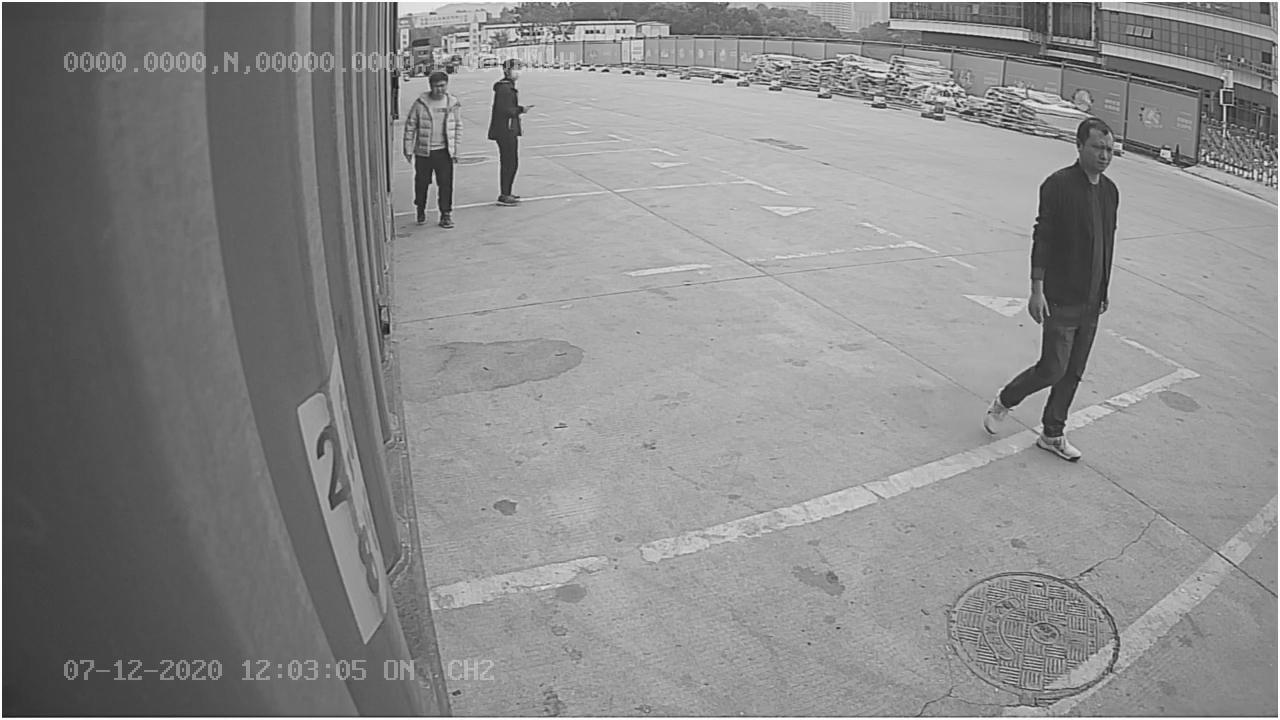person: (981, 112, 1129, 459)
